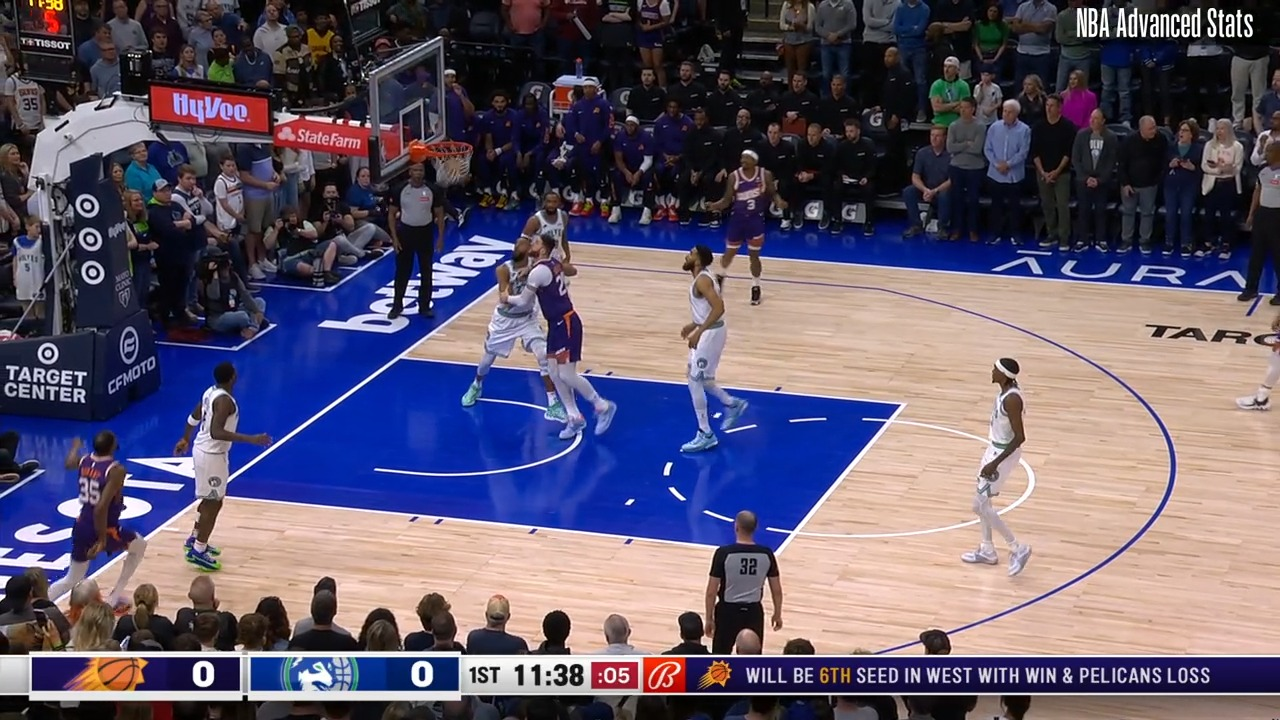basketball: (439, 153, 472, 188)
